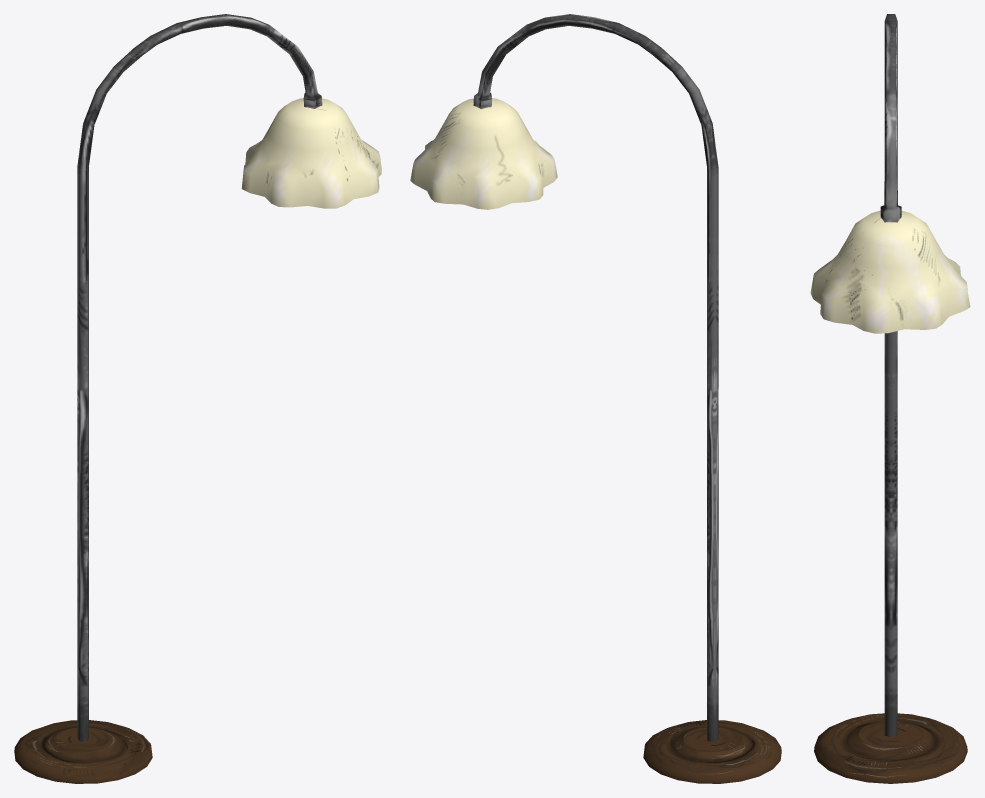
Rendered from lamp_foot.fbx.
3 views of the same model, side by side, from view 1: azimuth 30°, elevation 25°; view 2: azimuth 150°, elevation 25°; view 3: azimuth 270°, elevation 25° (orthographic). The views are drawn at different scales.
Visible parts, largest first — view 1: polySurface1759, polySurface1758; view 2: polySurface1759, polySurface1758; view 3: polySurface1759, polySurface1758.
Part boxes in pixels (x1,y1,x2,y2): polySurface1759: (14, 14, 322, 783); polySurface1758: (241, 98, 381, 208); polySurface1759: (473, 14, 781, 783); polySurface1758: (410, 98, 557, 209); polySurface1759: (814, 14, 967, 783); polySurface1758: (810, 210, 970, 333).
Bounding box in the file's own units: 102 × 196 × 36.29.
